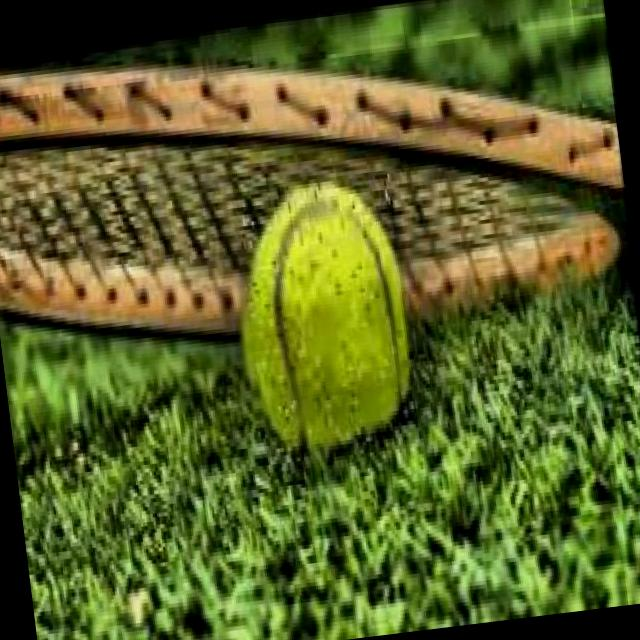Tennis Ball: (224, 166, 421, 469)
